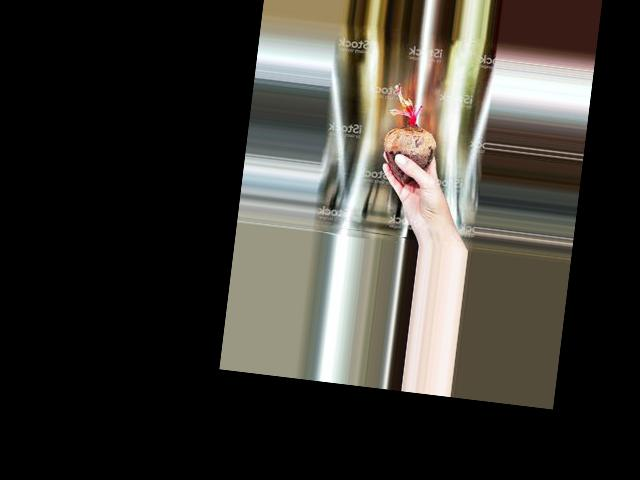beet: (379, 85, 442, 187)
